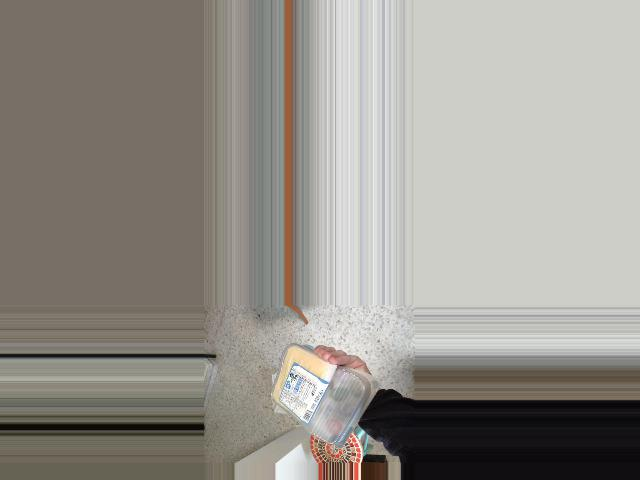cheese: (261, 355, 367, 449)
